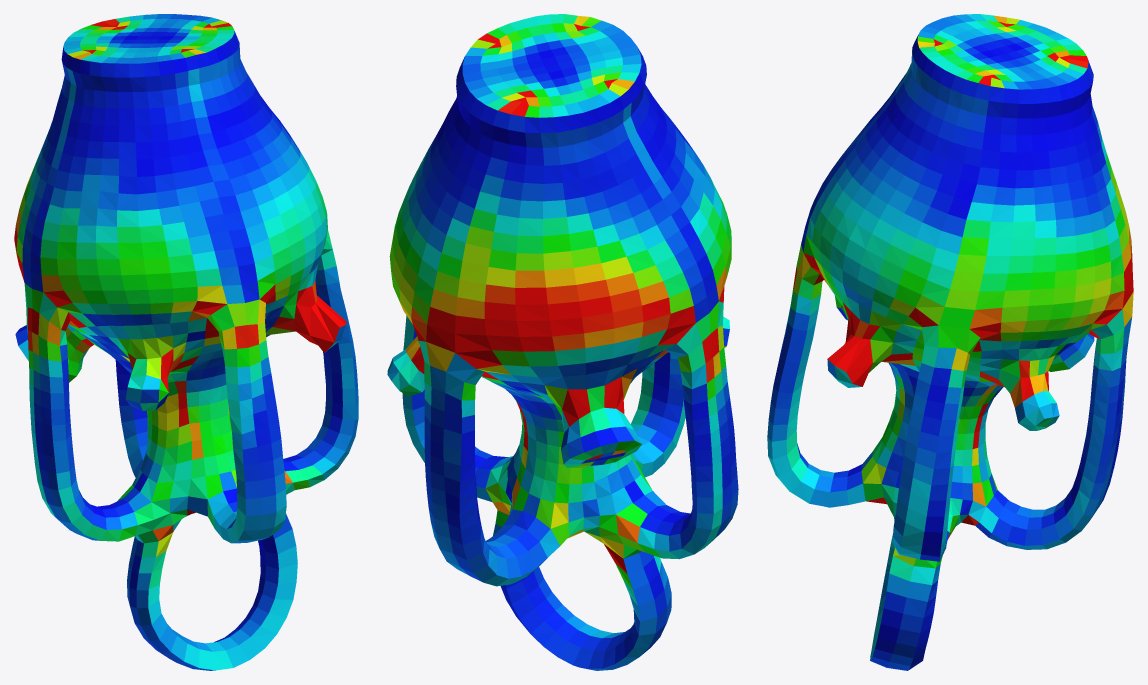
Rendered from botijo1_no_opt_quality.obj.
The picture shows the model from 3 angles, left to right: view 1: azimuth 30°, elevation 25°; view 2: azimuth 150°, elevation 25°; view 3: azimuth 270°, elevation 25°; orthographic projection. The views are drawn at different scales.
Size of the model in its own units: 146 by 282 by 151.
